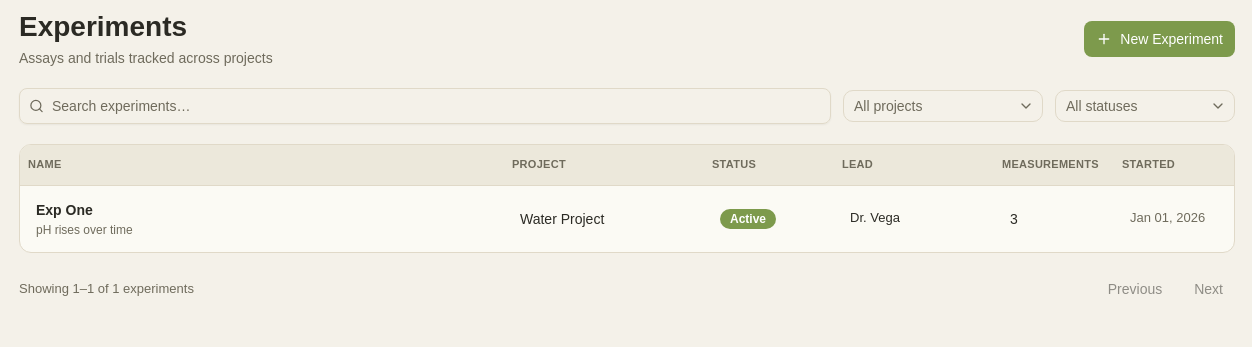
Test: ExperimentsPage › should filter out rows that do not match the search
In the field with placeholder "Search experiments…": (425, 106) [19, 88, 831, 124], type "zzz"
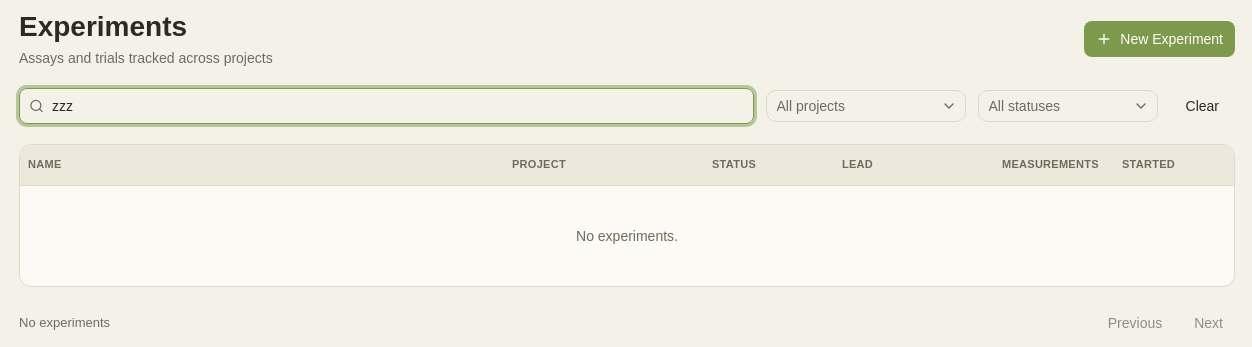
Check: the text "Exp One" is gone
